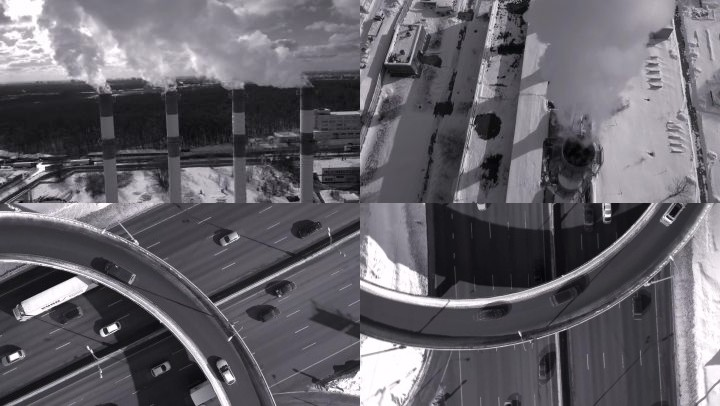dust: (524, 1, 672, 144), (161, 1, 261, 98), (21, 4, 118, 101), (99, 9, 186, 100), (241, 32, 322, 103)
